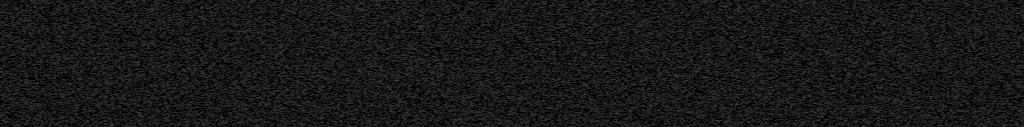wv_am: (612, 0, 616, 127)
wv_usb: (16, 3, 21, 72), (16, 73, 21, 127), (307, 3, 312, 48), (307, 71, 312, 101), (307, 49, 312, 70), (308, 102, 311, 126)
wv_wbfm: (631, 46, 649, 127), (631, 0, 649, 46)
